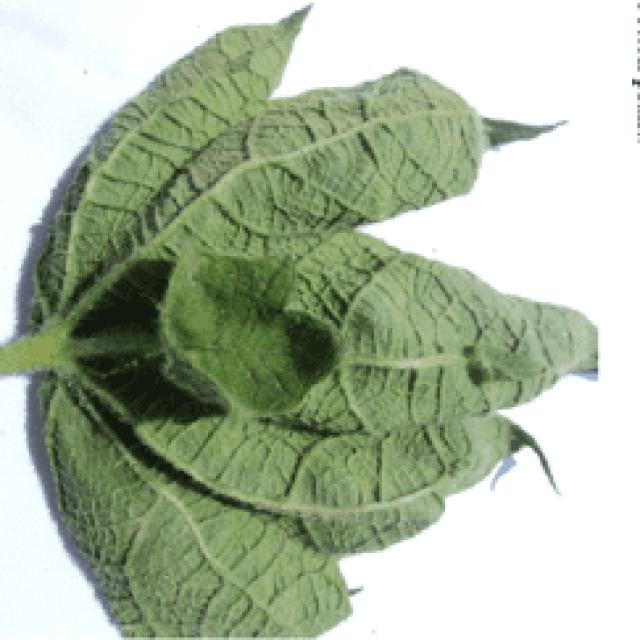Leaf Curl Virus: (89, 108, 463, 530)
